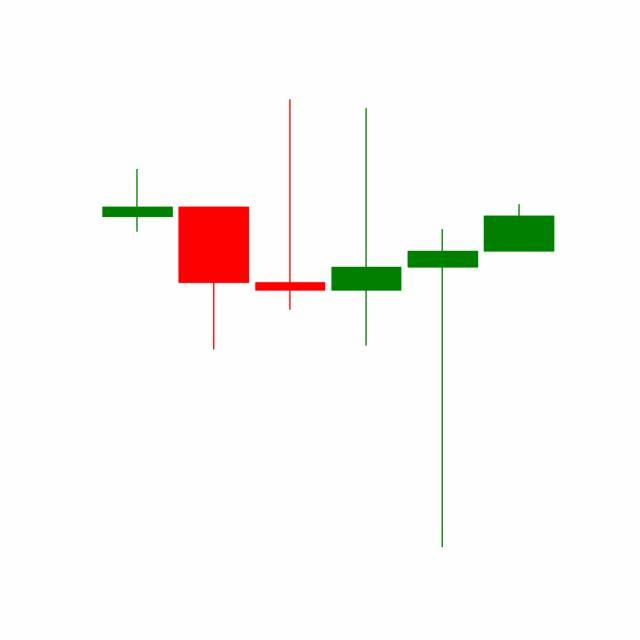Spinning Top: (404, 226, 482, 552)
